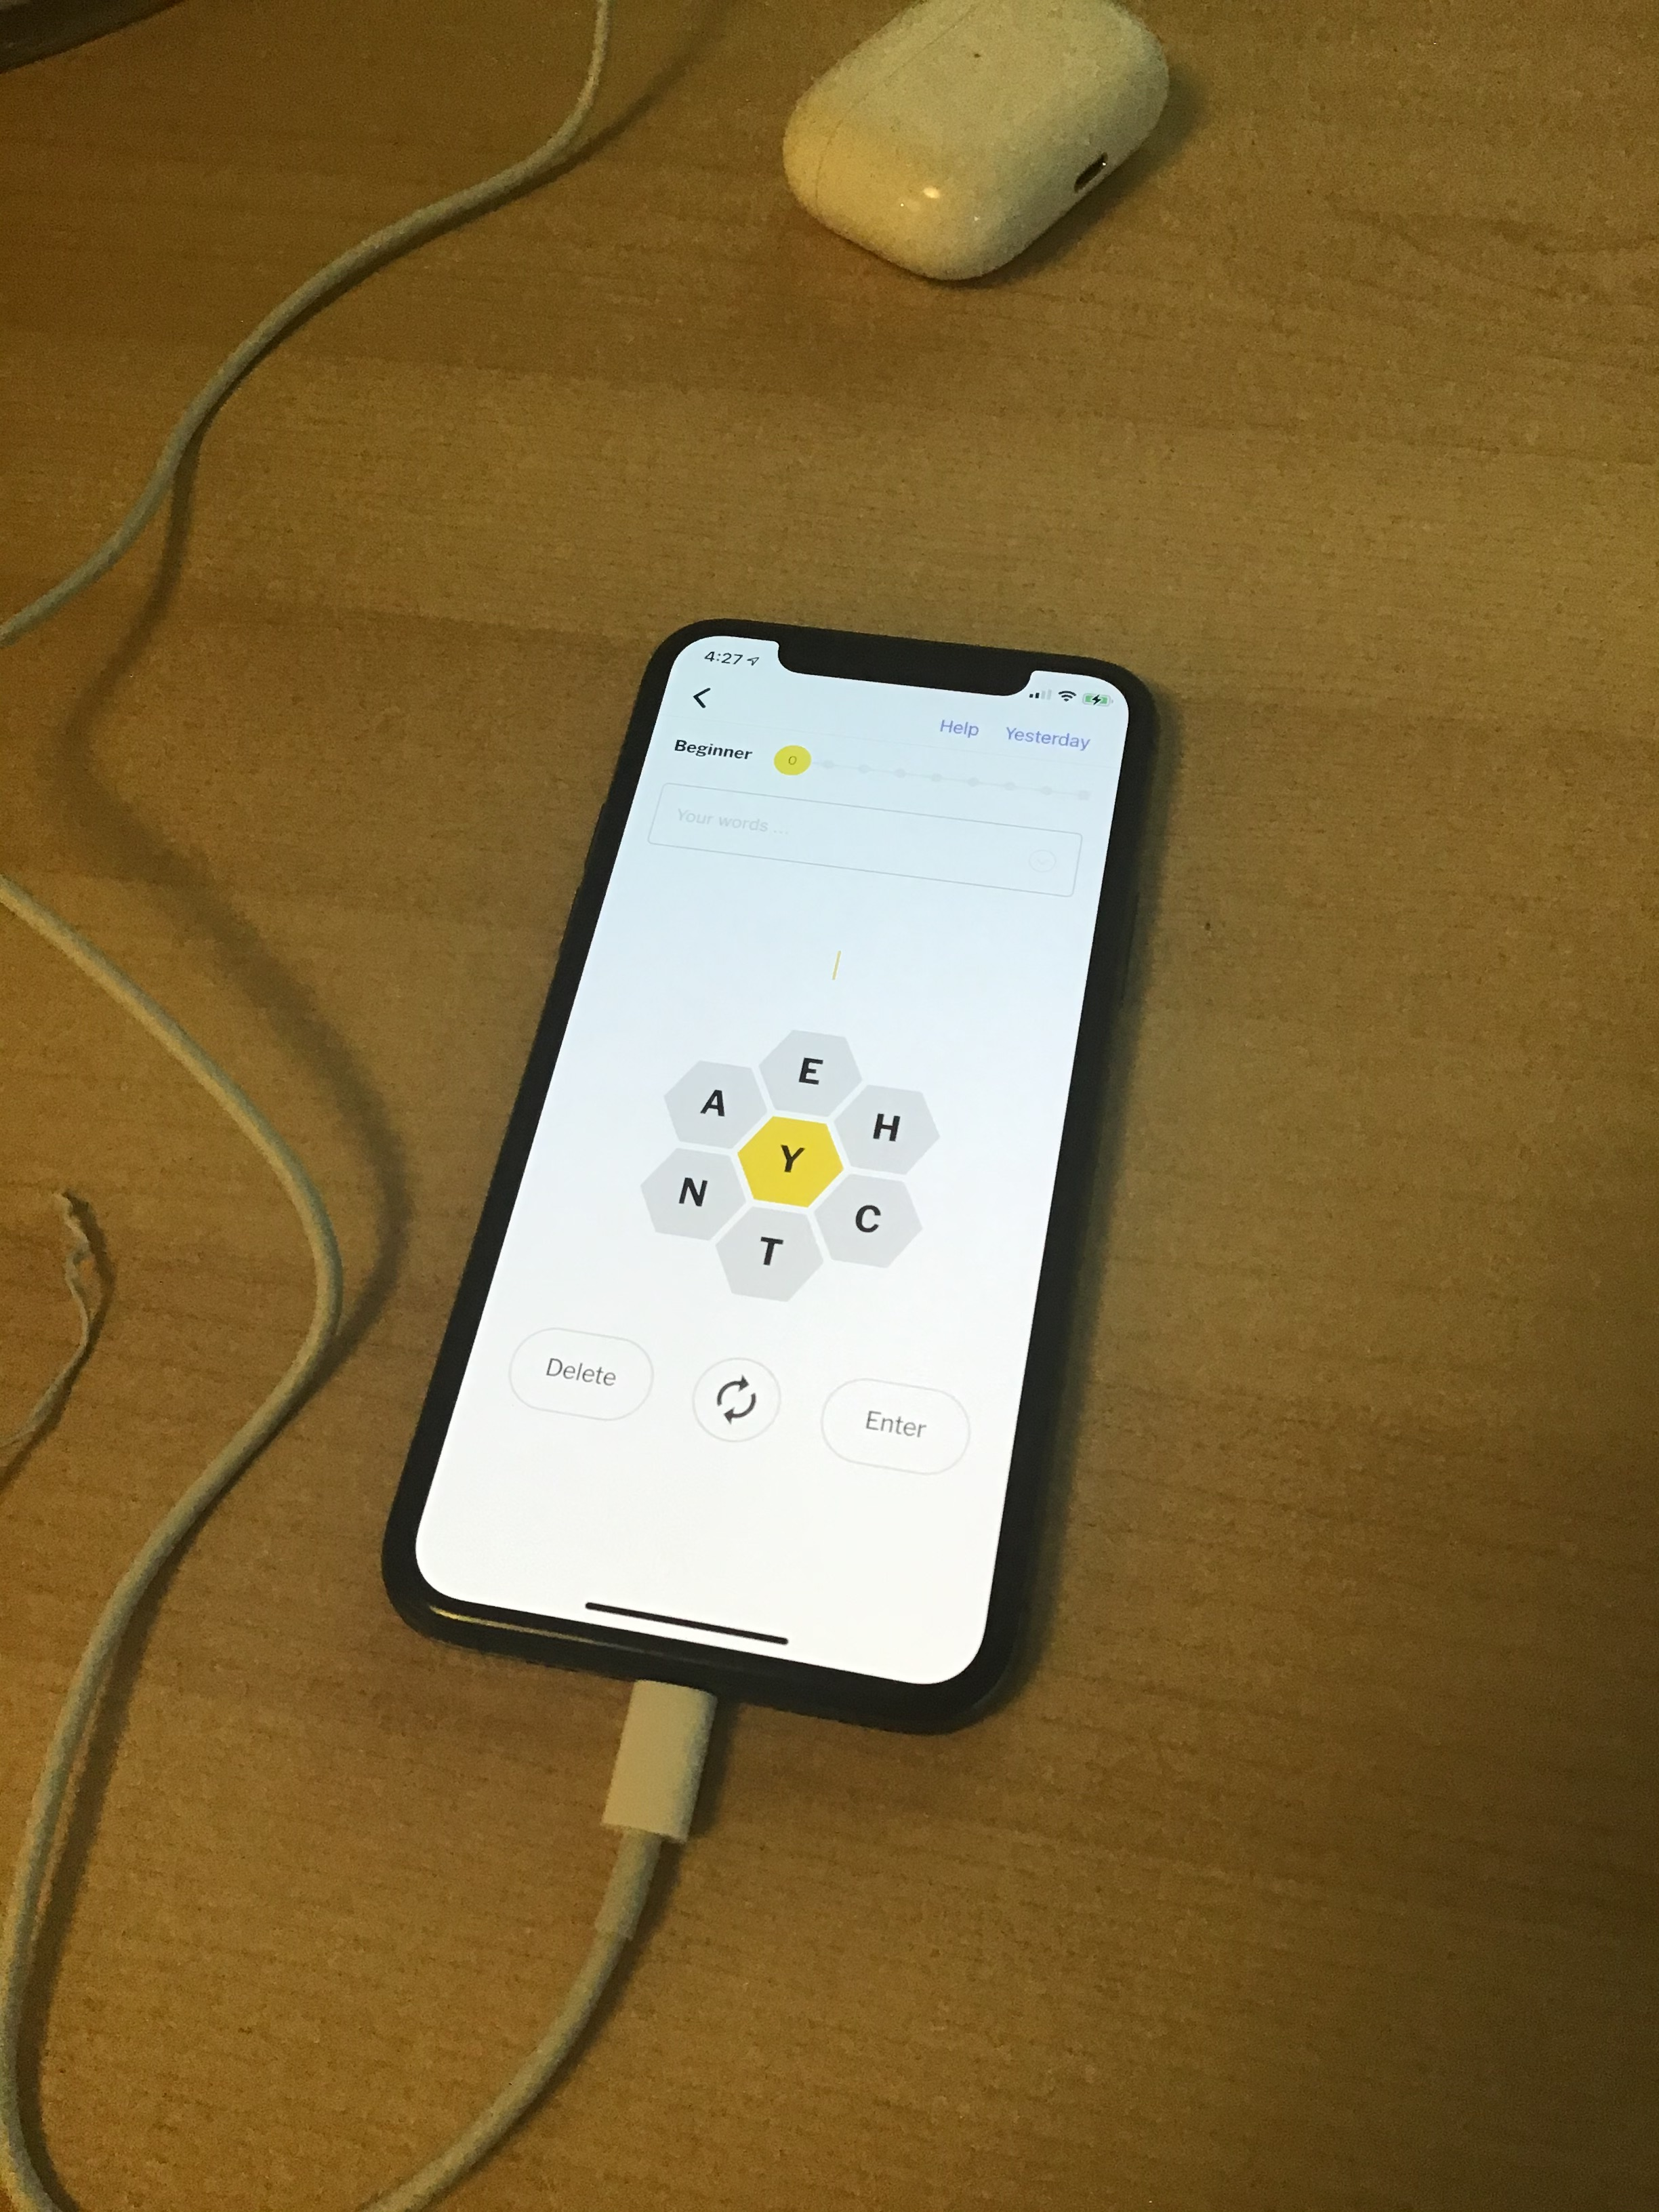Board: (619, 998, 965, 1338)
